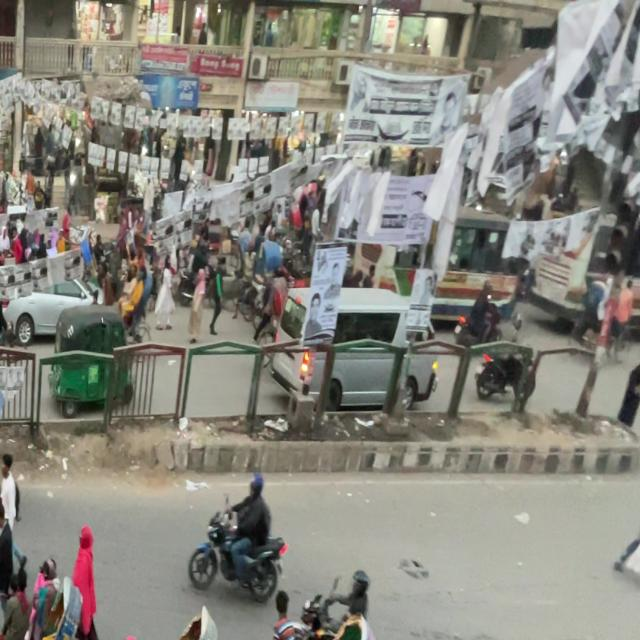car: (252, 284, 482, 427), (0, 287, 96, 349)
motorbike: (463, 287, 552, 407), (190, 520, 284, 599)
